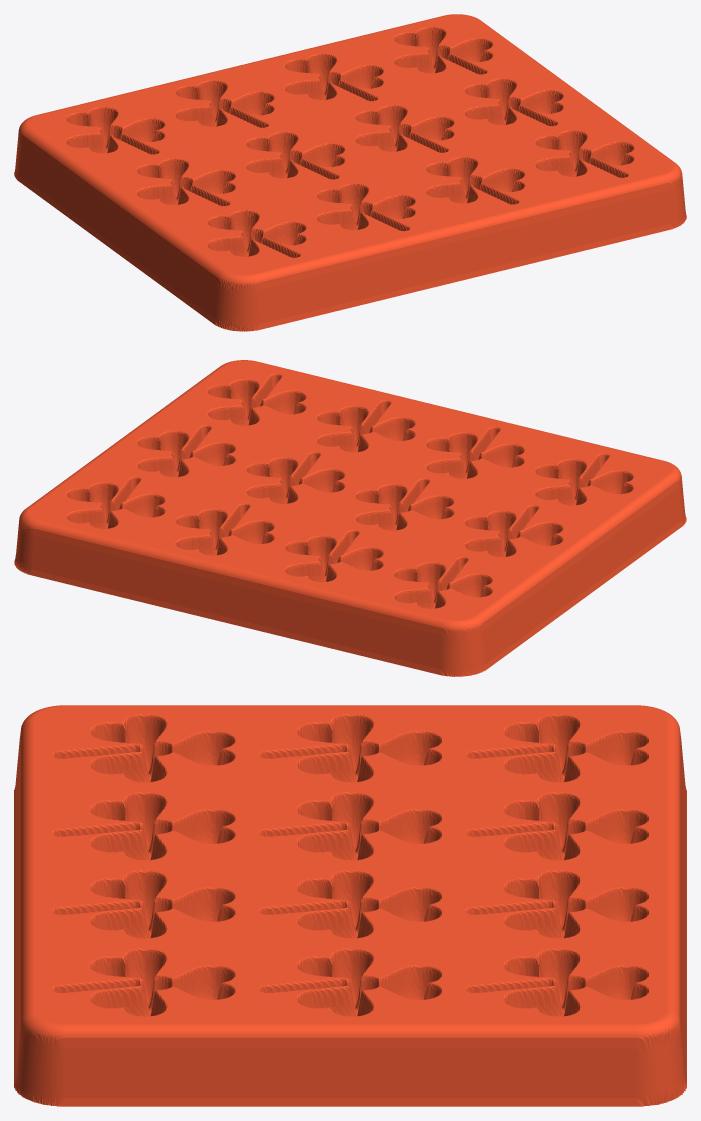
The model's file is mold.glb.
3 renders of one model, top to bottom at view 1: azimuth 30°, elevation 25°; view 2: azimuth 150°, elevation 25°; view 3: azimuth 270°, elevation 25°, orthographic. The views are drawn at different scales.
Visible parts, largest first — view 1: geometry_0; view 2: geometry_0; view 3: geometry_0.
Boxes of the visible parts, left/top/right/bottom form: geometry_0: left=14, top=14, right=686, bottom=331; geometry_0: left=14, top=360, right=686, bottom=676; geometry_0: left=14, top=705, right=686, bottom=1106.
Size of the model in its own units: 0.1402 by 0.0145 by 0.1192.
